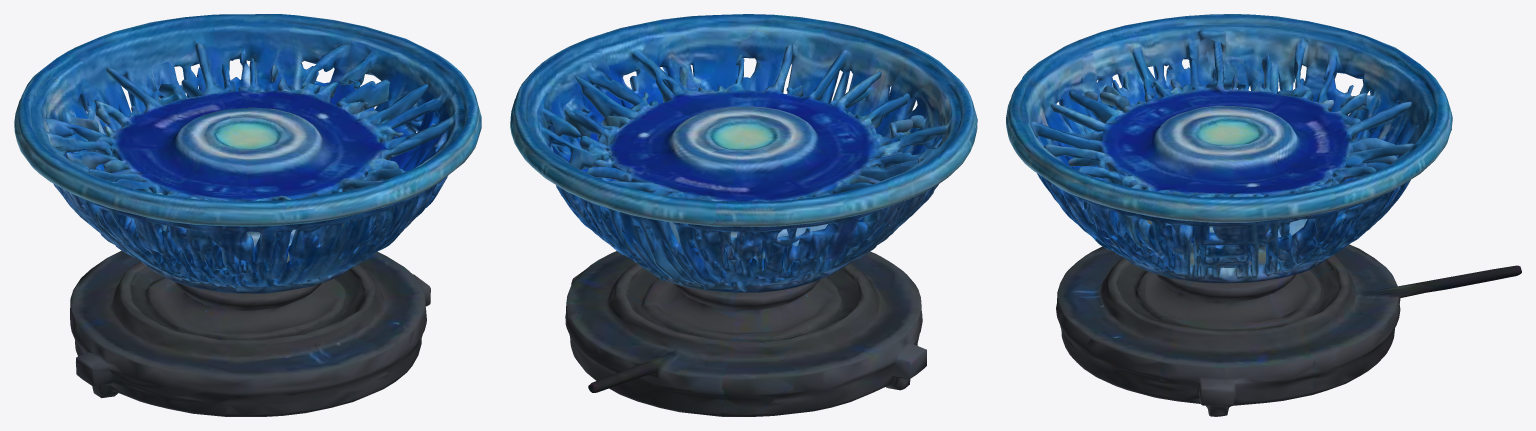
Rendered from fx_hologram.glb.
3 renders of one model, left to right at view 1: azimuth 30°, elevation 25°; view 2: azimuth 150°, elevation 25°; view 3: azimuth 270°, elevation 25°, orthographic. The views are drawn at different scales.
Visible parts, largest first — view 1: tripo_node_3f4b56c8-4474-4103-8d97-950119f5bbf3; view 2: tripo_node_3f4b56c8-4474-4103-8d97-950119f5bbf3; view 3: tripo_node_3f4b56c8-4474-4103-8d97-950119f5bbf3.
Boxes of the visible parts, x1,y1,x2,y2 form: tripo_node_3f4b56c8-4474-4103-8d97-950119f5bbf3: (14, 14, 481, 416); tripo_node_3f4b56c8-4474-4103-8d97-950119f5bbf3: (510, 14, 977, 416); tripo_node_3f4b56c8-4474-4103-8d97-950119f5bbf3: (1006, 14, 1521, 416).
Size of the model in its own units: 0.837 by 0.4842 by 0.9503.
1 material, 1 textured.
